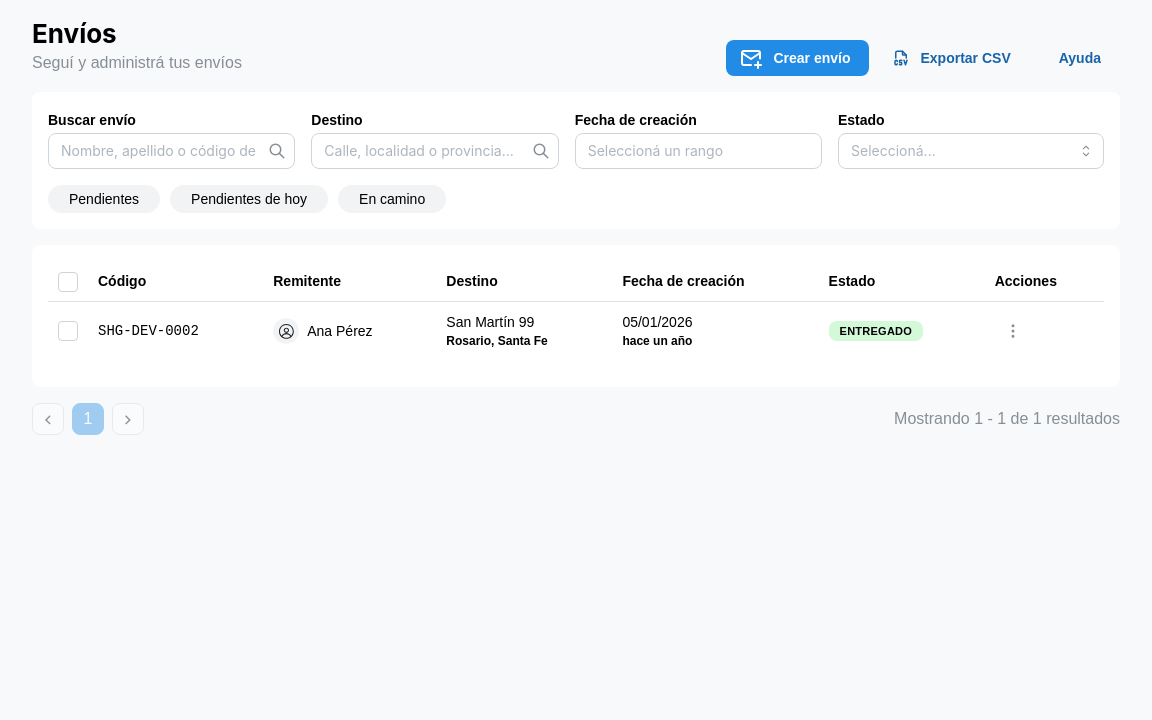
ListaEnvios › shows a warning toast (not a generic error) when deleting an envío returns 409
Expected: the text "SHG-DEV-0002" is shown, 98,323 -> 199,339
Click the button named "Acciones de SHG-DEV-0002".
click(1013, 331)  # box 995,313 -> 1031,349
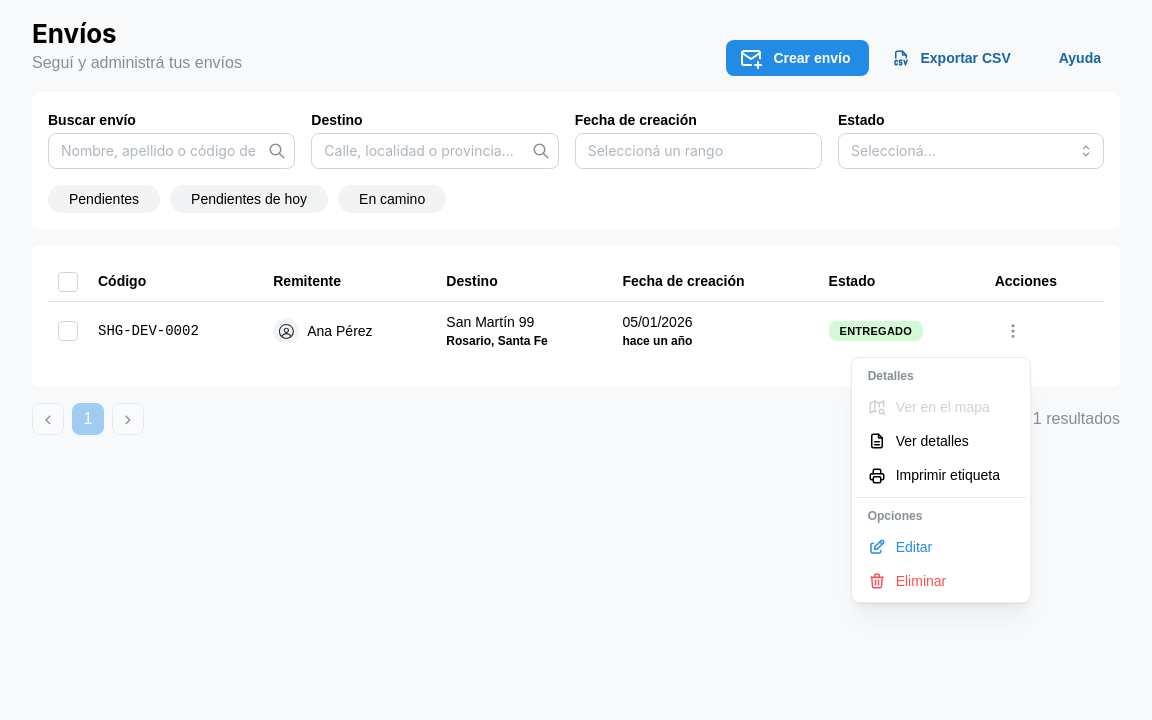
Click the menu item "Eliminar".
click(941, 581)  # box 856,564 -> 1026,598
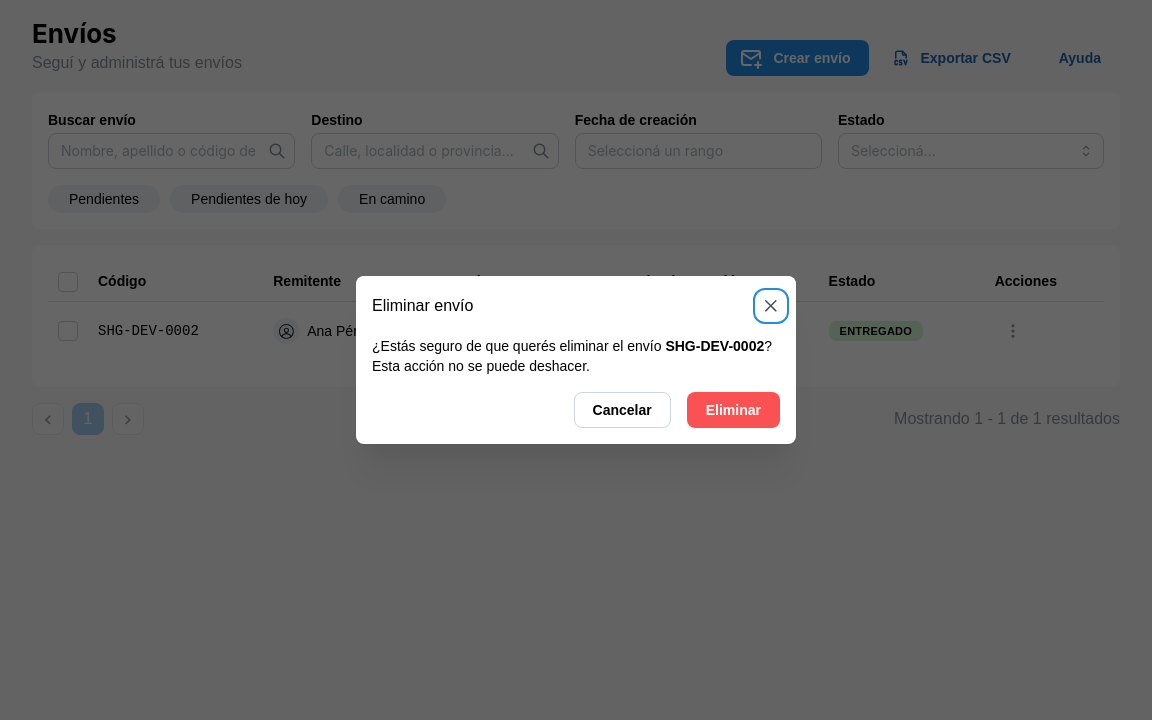
Click the button "Eliminar".
click(733, 410)  # box 687,392 -> 780,428
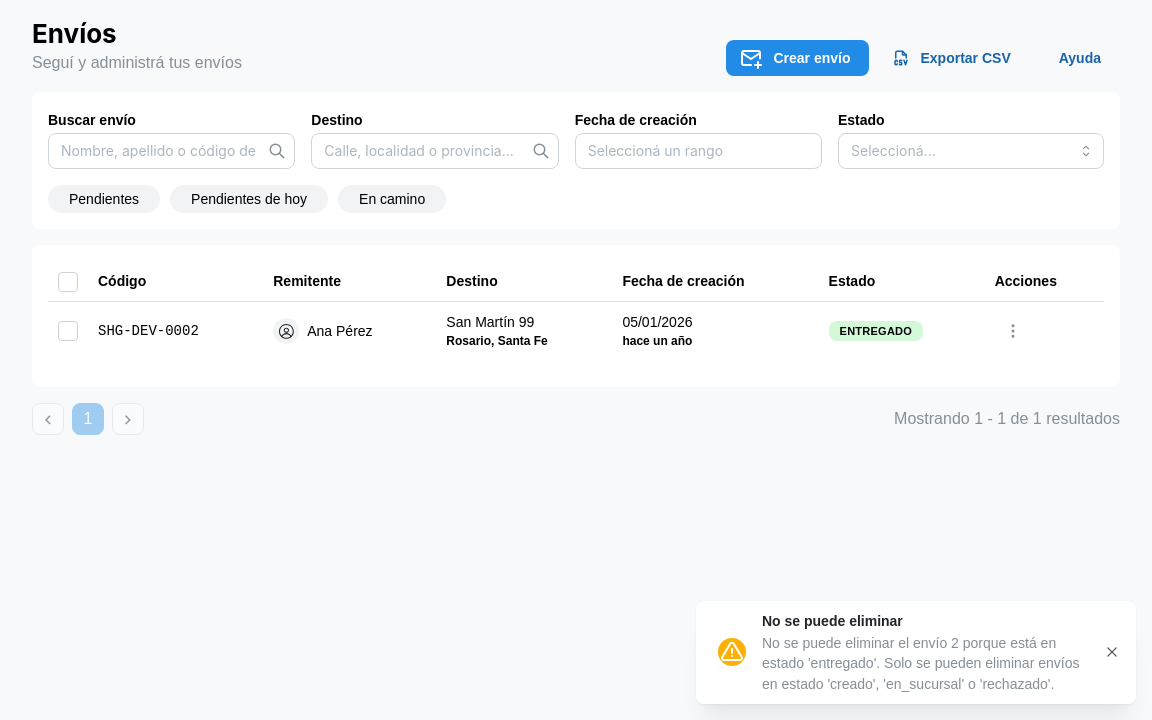
Expected: the text "No se puede eliminar" is shown, 762,613 -> 903,629
Expected: the text "porque está en estado 'entregado'" is shown, 762,635 -> 1080,692
